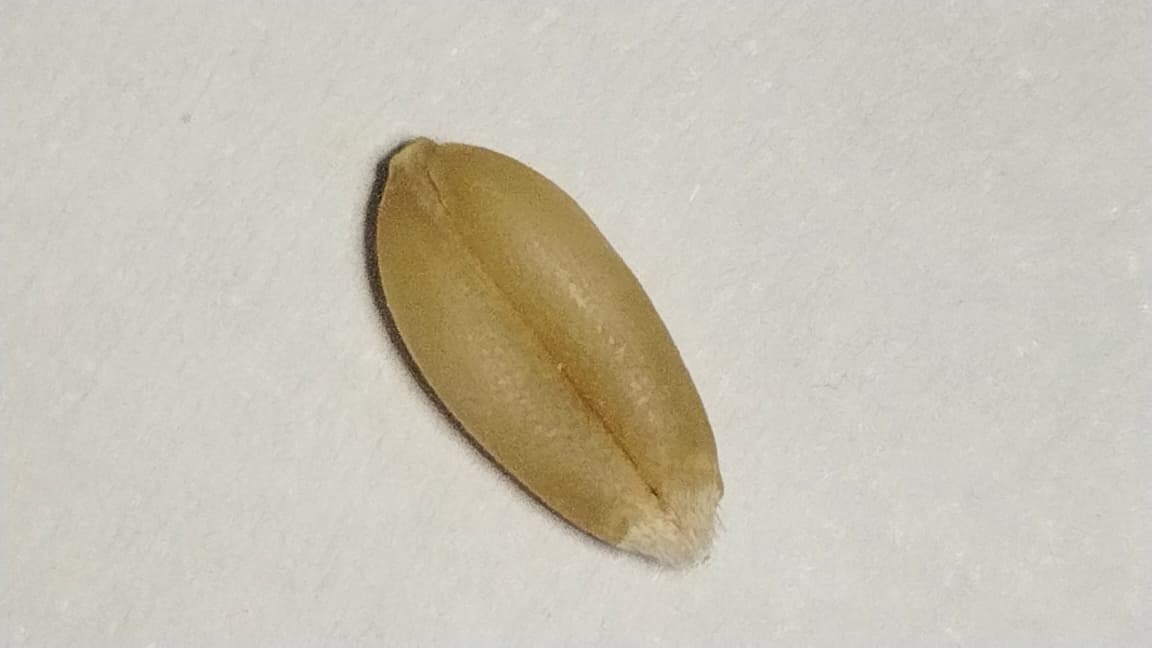healthy: (377, 139, 721, 563)
